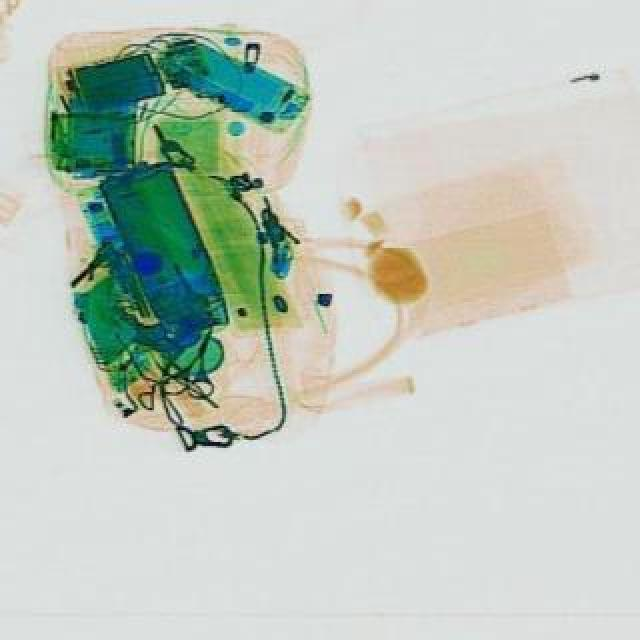pliers: (164, 316, 244, 410)
